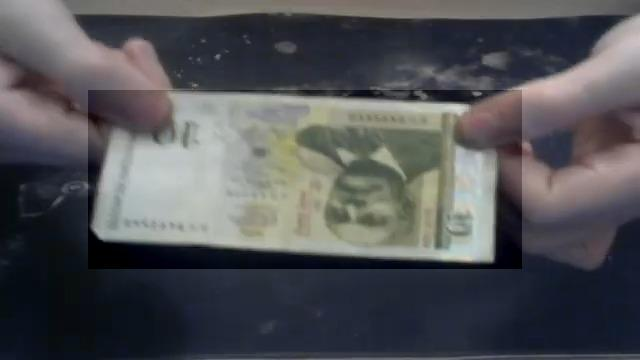10leva: (88, 90, 522, 269)
